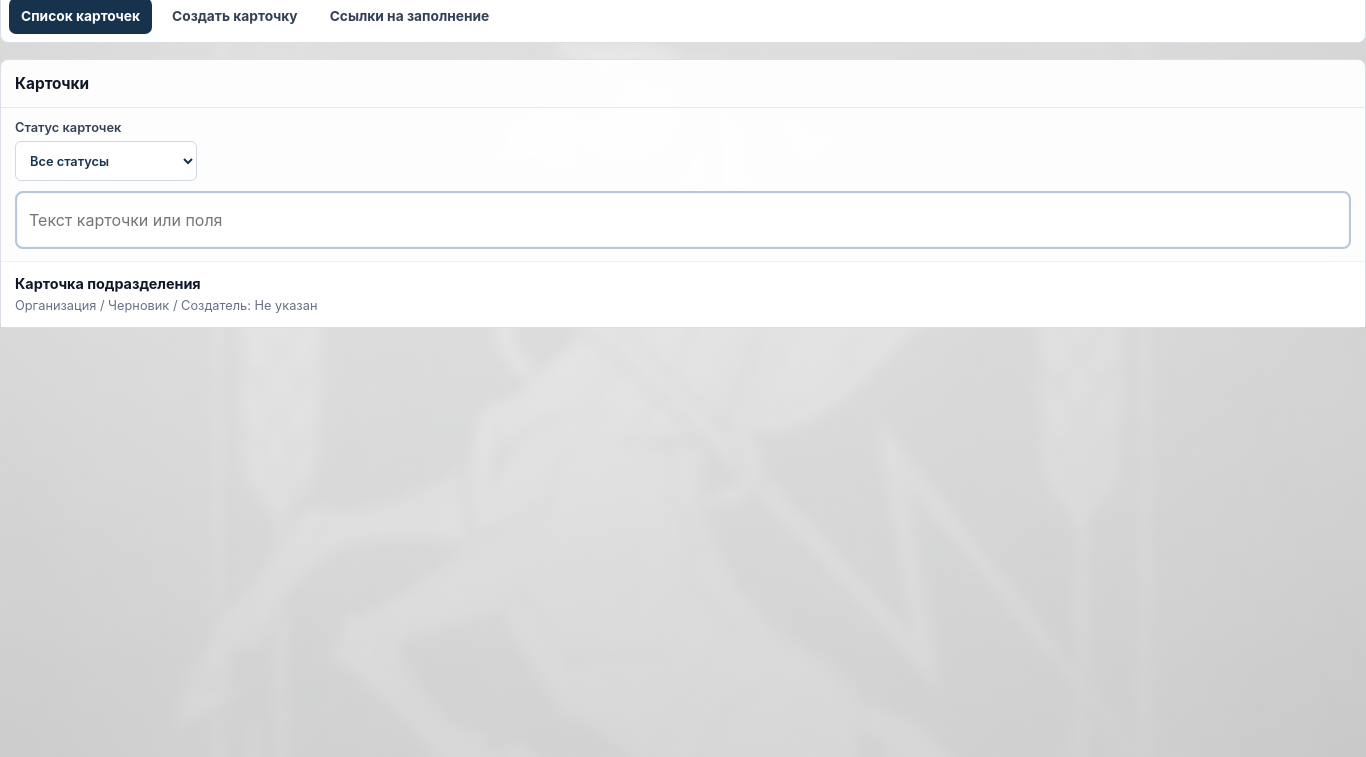
Test: CardsWorkspace › requires a basis for a demoted card's ordinary field save
Double-click the button "Карточка подразделения": x=108, y=284 left=1, top=262, right=1365, bottom=327
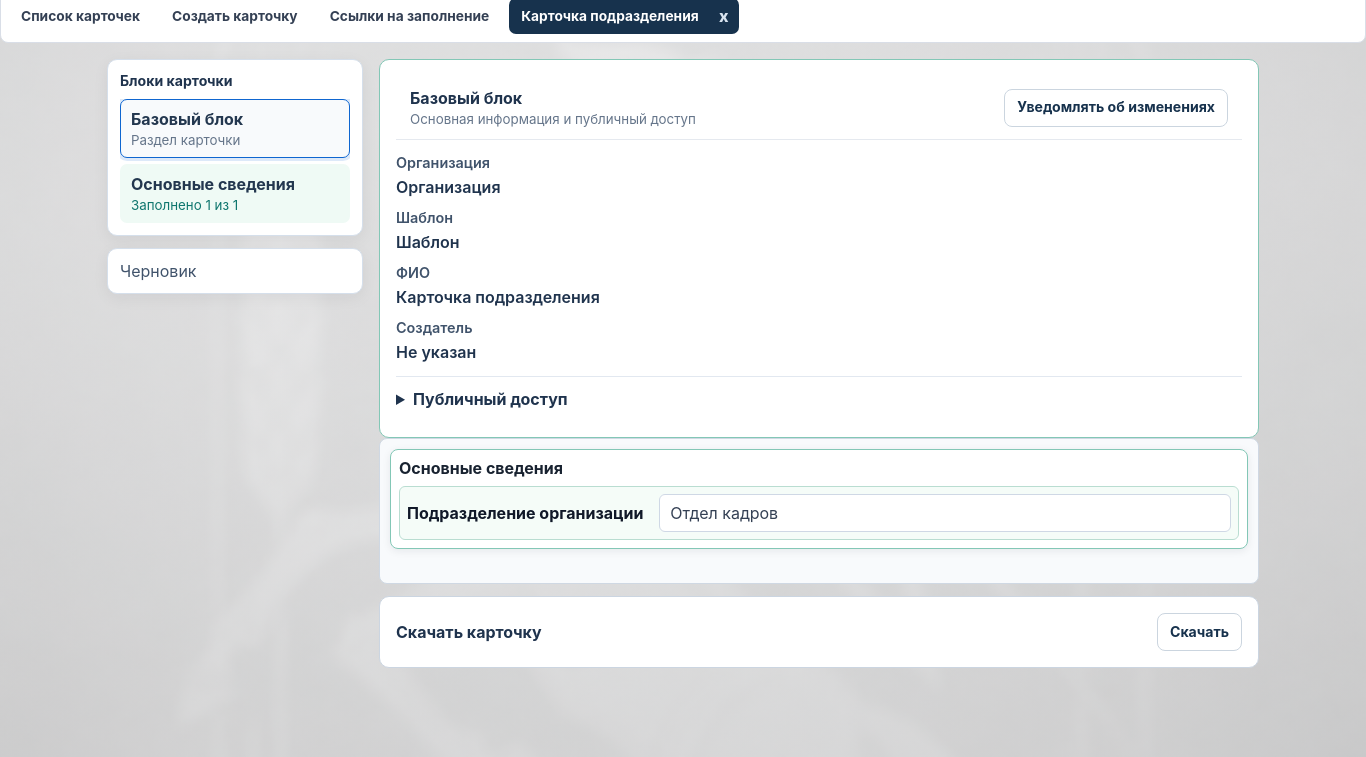
Click the element with test id "filled-field-item-org-unit": x=819, y=513 left=399, top=486, right=1239, bottom=540
(page scrolled)
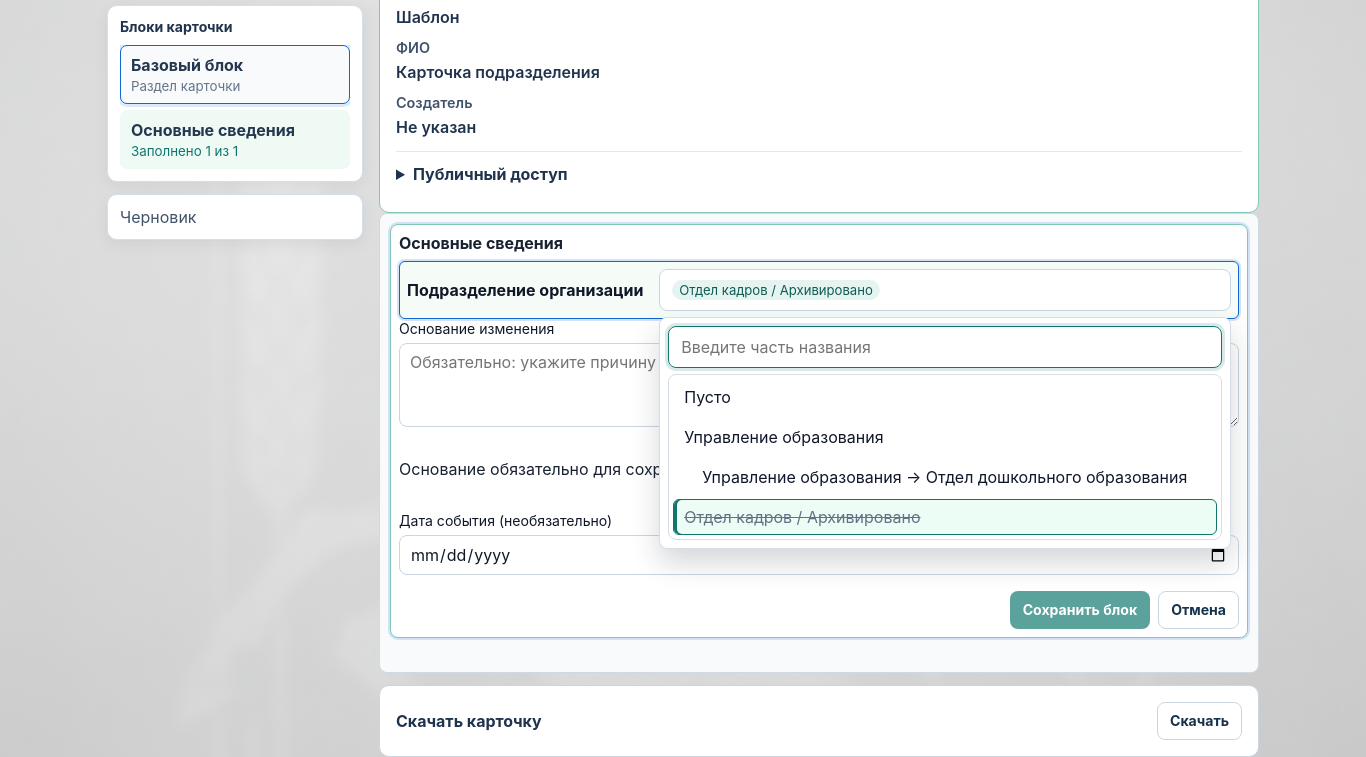
Expected: the text box labelled "Основание изменения" is shown, left=399, top=343, right=1239, bottom=427
Expected: the button "Сохранить блок" is disabled, left=1010, top=591, right=1150, bottom=629
